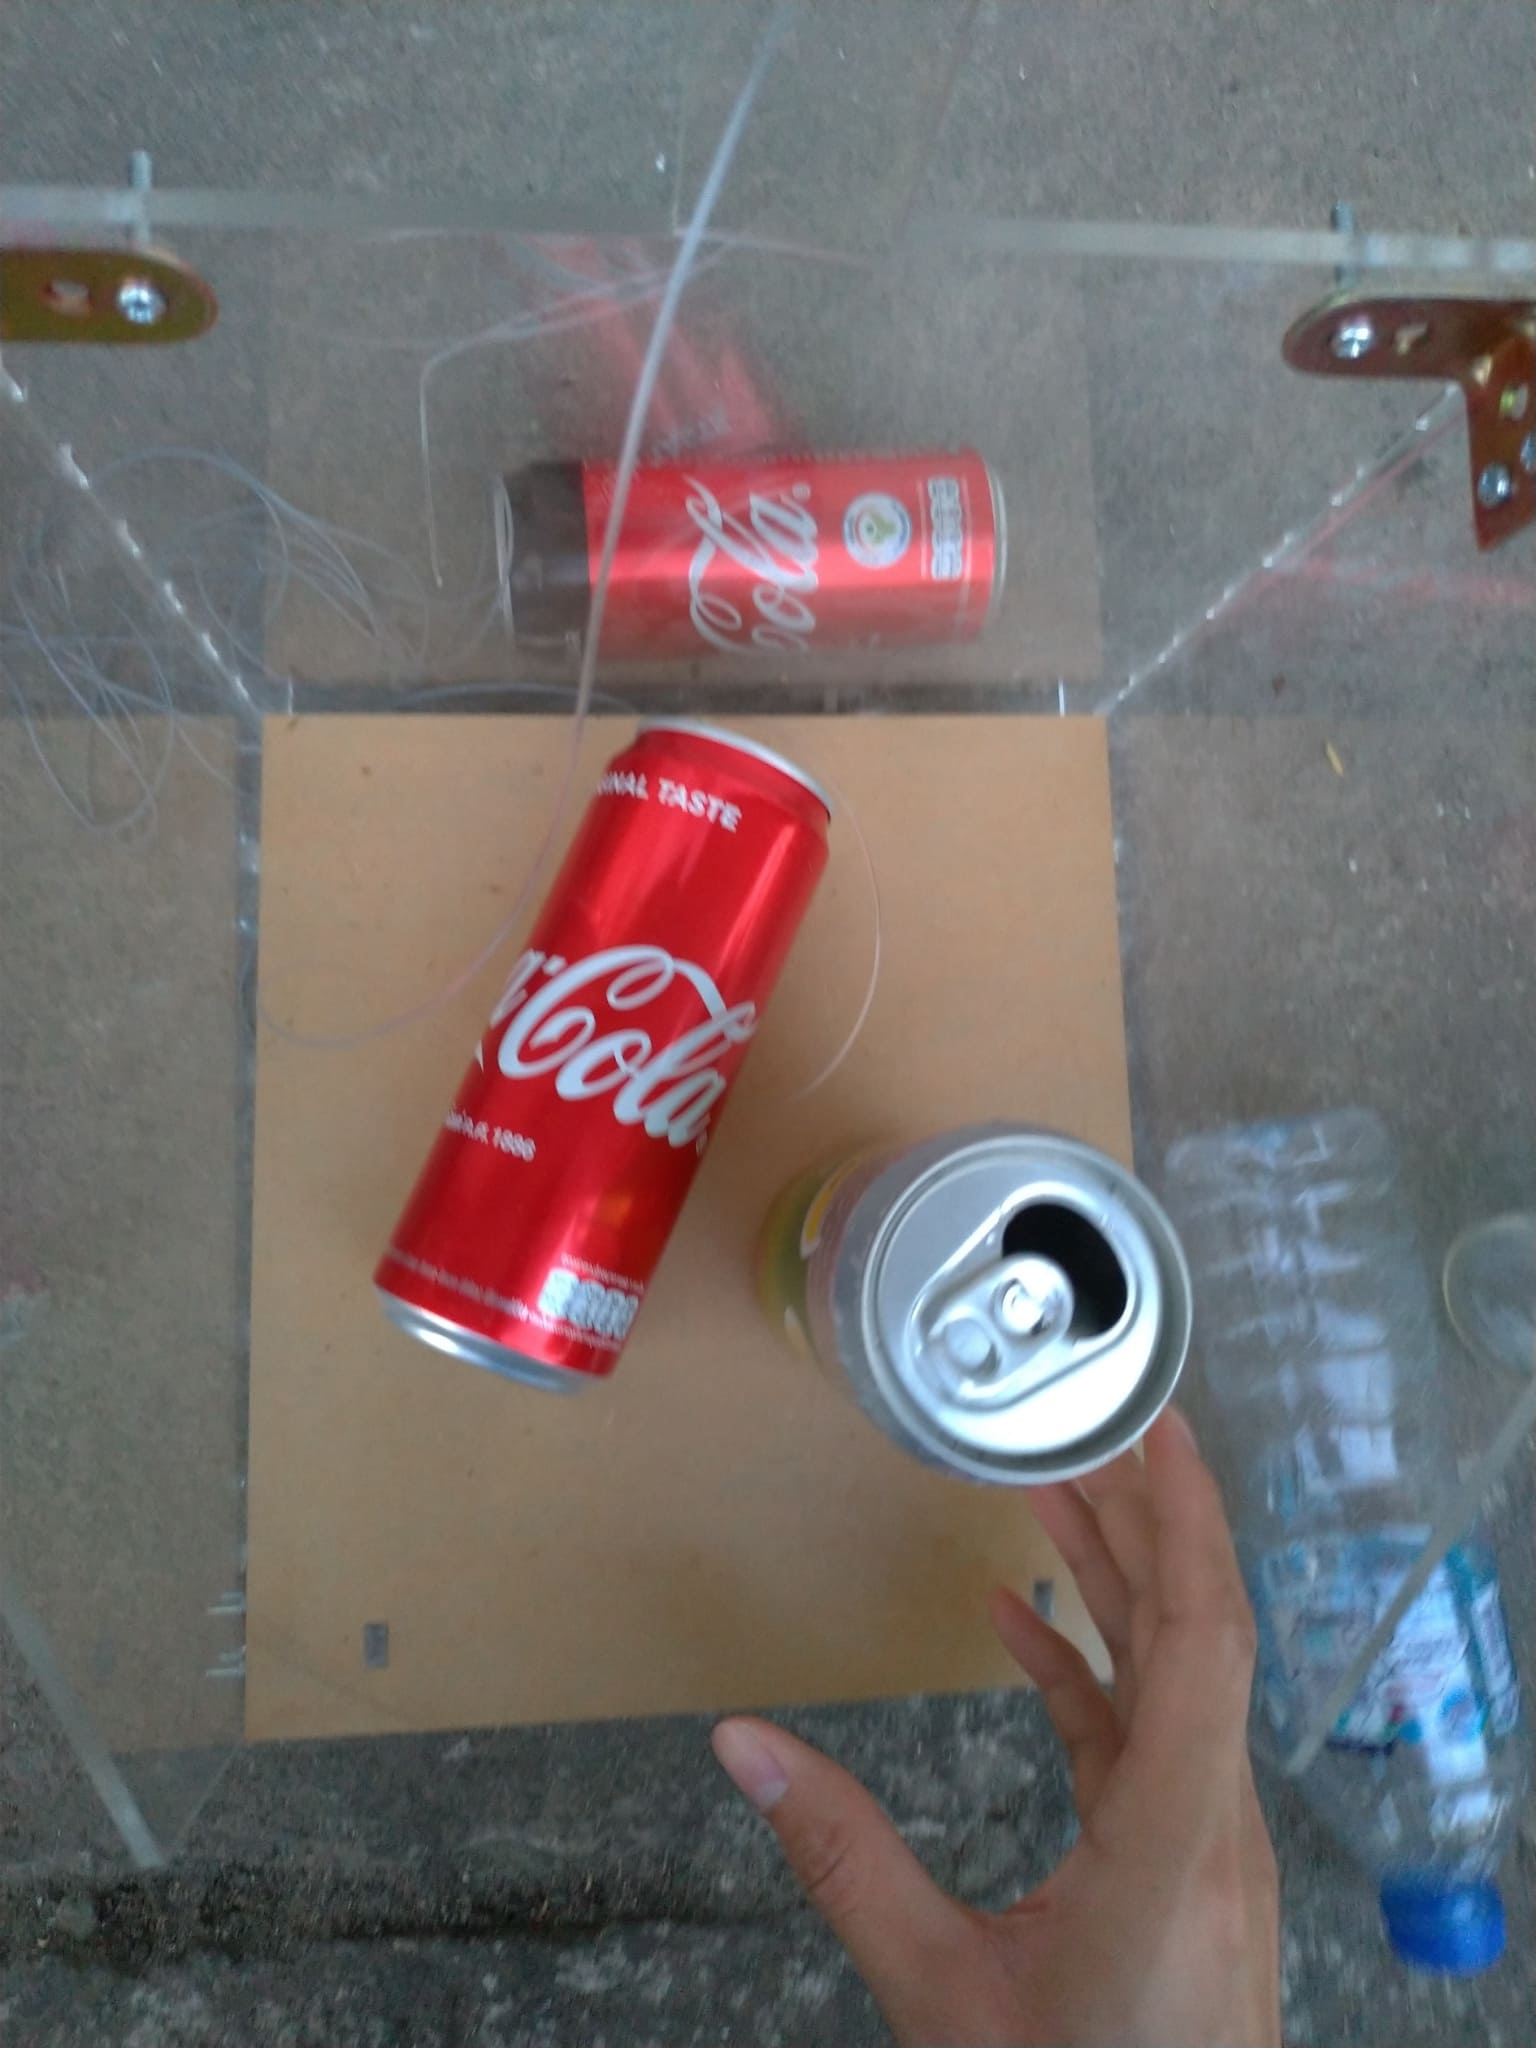AlCan: (374, 722, 833, 1388), (747, 1127, 1194, 1485), (490, 452, 1020, 661)
PlasticBottle: (1160, 1105, 1525, 1980)
